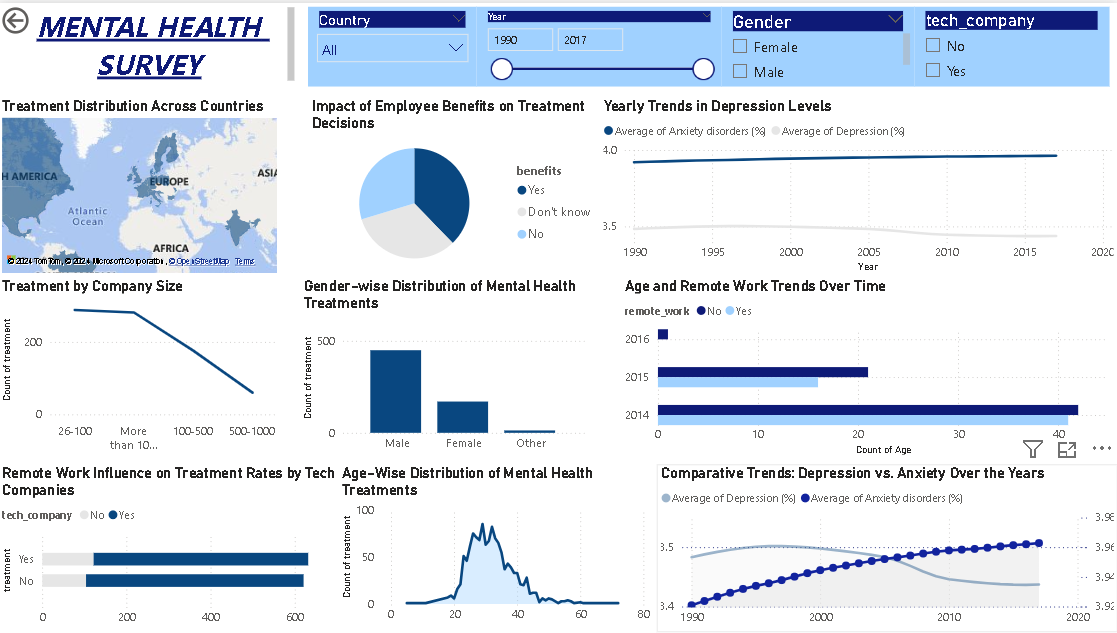

Layout of this report page (visuals, bound fields, positions):
{"tool":"powerbi","page":{"name":"Page 1","canvas":[1280,720],"ordinal":0},"visuals":[{"type":"textbox","box":[10,0,333.8,95],"z":0},{"type":"filledMap","title":"Treatment Distribution Across Countries","fields":{"Category":["mental_health tech_survey.Country"],"Series":["mental_health tech_survey.treatment"]},"box":[10,96.2,342.5,263.8],"z":1000},{"type":"clusteredColumnChart","title":"Gender-wise Distribution of Mental Health Treatments","fields":{"Category":["mental_health tech_survey.Gender"],"Y":["CountNonNull(mental_health tech_survey.treatment)"]},"box":[365,0,288.8,208.8],"z":2000},{"type":"barChart","title":"Remote Work Influence on Treatment Rates by Tech Companies","fields":{"Y":["CountNonNull(mental_health tech_survey.remote_work)"],"Category":["mental_health tech_survey.treatment"],"Series":["mental_health tech_survey.tech_company"]},"box":[0,582.9,415.7,137.1],"z":3000},{"type":"lineChart","title":"Yearly Trends in Depression Levels","fields":{"Category":["mental_health depression (2).Year"],"Y":["Avg(mental_health depression (2).Anxiety disorders (%))","Avg(mental_health depression (2).Depression (%))"]},"box":[700,0,580,154.3],"z":4000},{"type":"lineChart","title":"Age-Wise Distribution of Mental Health Treatments","fields":{"Category":["mental_health tech_survey.Age"],"Y":["CountNonNull(mental_health tech_survey.treatment)"]},"box":[364.3,382.9,362.9,190],"z":5000},{"type":"lineChart","title":"Treatment by Company Size","fields":{"Category":["mental_health tech_survey.no_employees"],"Y":["CountNonNull(mental_health tech_survey.treatment)"]},"box":[25.7,374.3,327.1,208.6],"z":6000},{"type":"pieChart","title":"Impact of Employee Benefits on Treatment Decisions","fields":{"Category":["mental_health tech_survey.benefits"],"Y":["CountNonNull(mental_health tech_survey.treatment)"]},"box":[917.5,166.2,331.2,178.8],"z":7000},{"type":"areaChart","title":"Comparative Trends: Depression vs. Anxiety Over the Years","fields":{"Category":["mental_health depression (2).Year"],"Y":["Avg(mental_health depression (2).Depression (%))"],"Y2":["Avg(mental_health depression (2).Anxiety disorders (%))"]},"box":[752.9,360,527.1,192.9],"z":8000},{"type":"slicer","fields":{"Values":["mental_health tech_survey.Gender"]},"box":[1065,587.5,203.8,116.2],"z":9000},{"type":"actionButton","box":[0,0,100,40],"z":10000},{"type":"slicer","fields":{"Values":["mental_health tech_survey.tech_company"]},"box":[861.4,614.3,185.7,90],"z":11000},{"type":"slicer","fields":{"Values":["mental_health depression (2).Year"]},"box":[567.5,606.2,283.8,97.5],"z":12000},{"type":"slicer","fields":{"Values":["mental_health tech_survey.Country"]},"box":[415.7,632.9,140,71.4],"z":13000},{"type":"clusteredBarChart","title":"Age and Remote Work Trends Over Time","fields":{"Category":["mental_health tech_survey.Date_entry.Variation.Date Hierarchy.Year"],"Series":["mental_health tech_survey.remote_work"],"Y":["Count(mental_health tech_survey.Age)"]},"box":[364.3,212.9,568.6,147.1],"z":14000}]}

Visuals, with their boxes in screenshot pixels (x1, y1, x2, y2), scaled from the page's 1280x720 canvas onto the 1117x633 screenshot:
textbox: <box>9,0,300,84</box>
"Treatment Distribution Across Countries" filledMap: <box>9,85,308,316</box>
"Gender-wise Distribution of Mental Health Treatments" clusteredColumnChart: <box>319,0,571,184</box>
"Remote Work Influence on Treatment Rates by Tech Companies" barChart: <box>0,512,363,632</box>
"Yearly Trends in Depression Levels" lineChart: <box>611,0,1116,136</box>
"Age-Wise Distribution of Mental Health Treatments" lineChart: <box>318,337,635,504</box>
"Treatment by Company Size" lineChart: <box>22,329,308,512</box>
"Impact of Employee Benefits on Treatment Decisions" pieChart: <box>801,146,1090,303</box>
"Comparative Trends: Depression vs. Anxiety Over the Years" areaChart: <box>657,316,1116,486</box>
slicer - mental_health tech_survey.Gender: <box>929,517,1107,619</box>
actionButton: <box>0,0,87,35</box>
slicer - mental_health tech_survey.tech_company: <box>752,540,914,619</box>
slicer - mental_health depression (2).Year: <box>495,533,743,619</box>
slicer - mental_health tech_survey.Country: <box>363,556,485,619</box>
"Age and Remote Work Trends Over Time" clusteredBarChart: <box>318,187,814,316</box>
